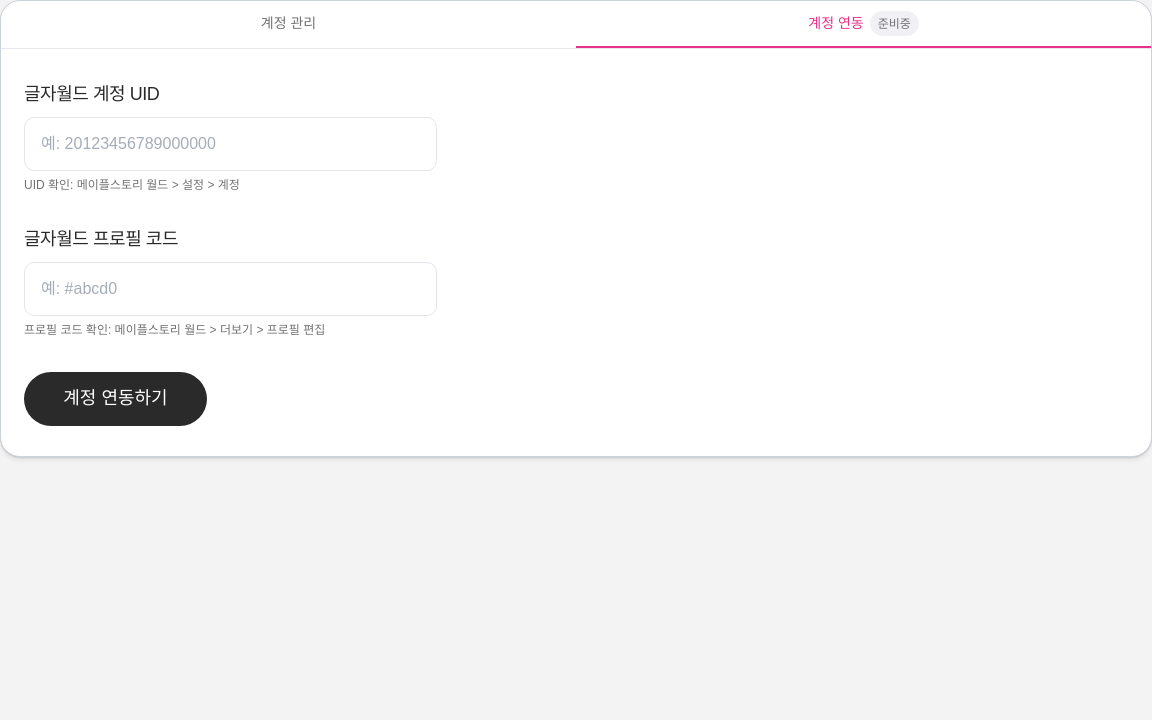
Test: MswLinkCard — 플래그 ON › should send both fields and confirm success with a modal
Type "20123456789000000" into the field labelled "글자월드 계정 UID" at (230, 144), box [24,117,437,171]
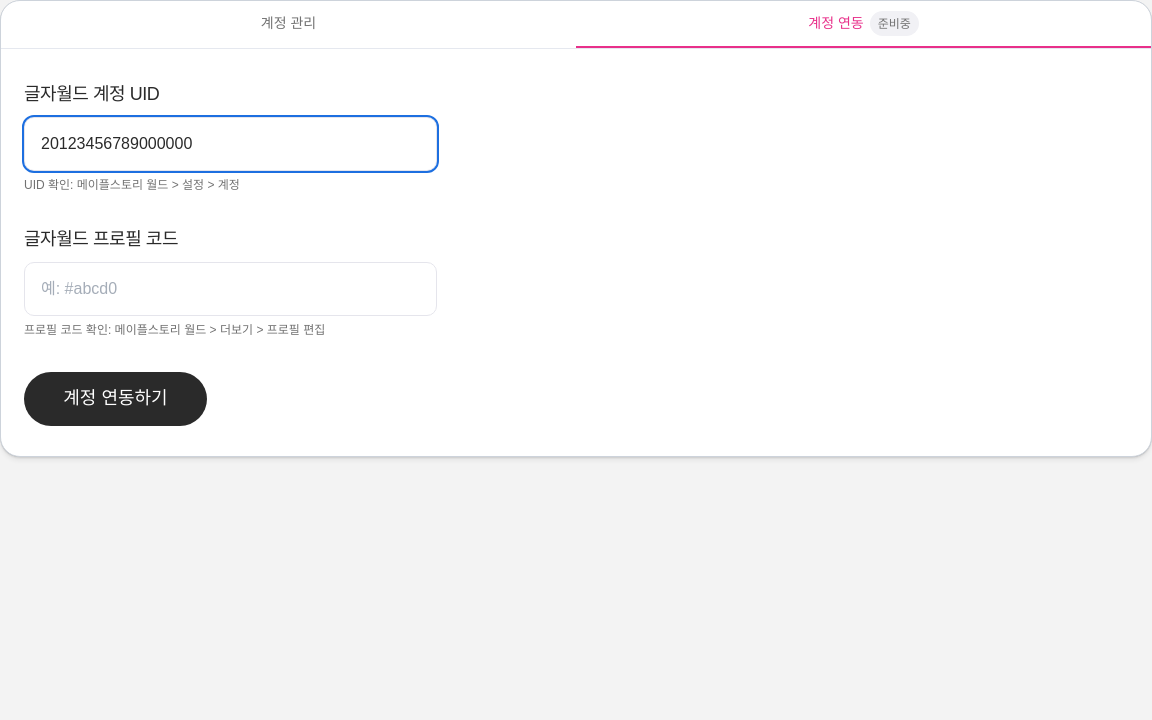
Type "#abcd0" into the field labelled "글자월드 프로필 코드" at (230, 289), box [24,262,437,316]
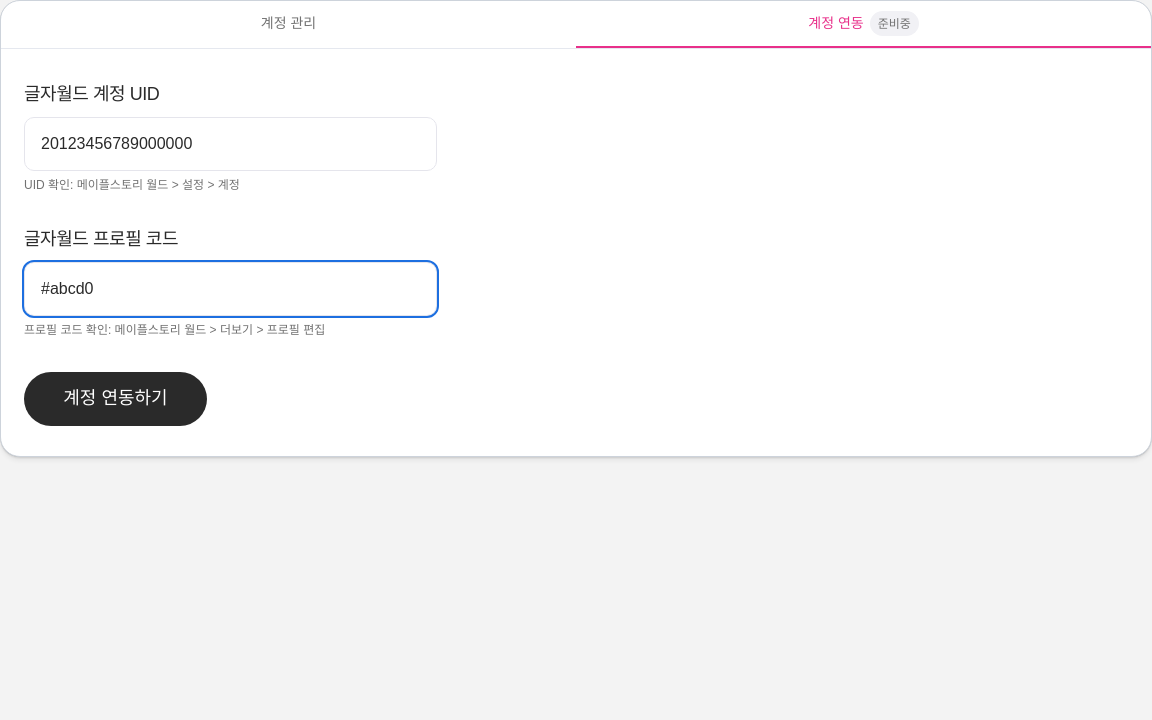
Click the button "계정 연동하기" at (116, 399), box [24,372,207,426]
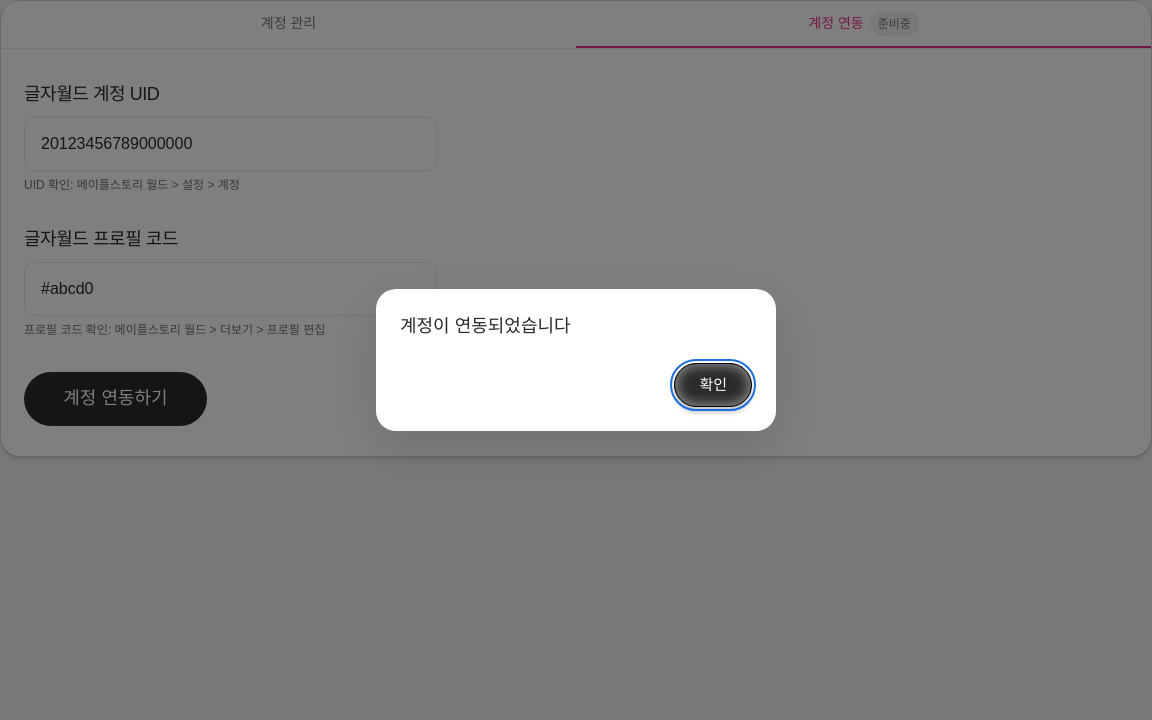
Result: the dialog shows "계정이 연동되었습니다" at [400,316,571,336]
